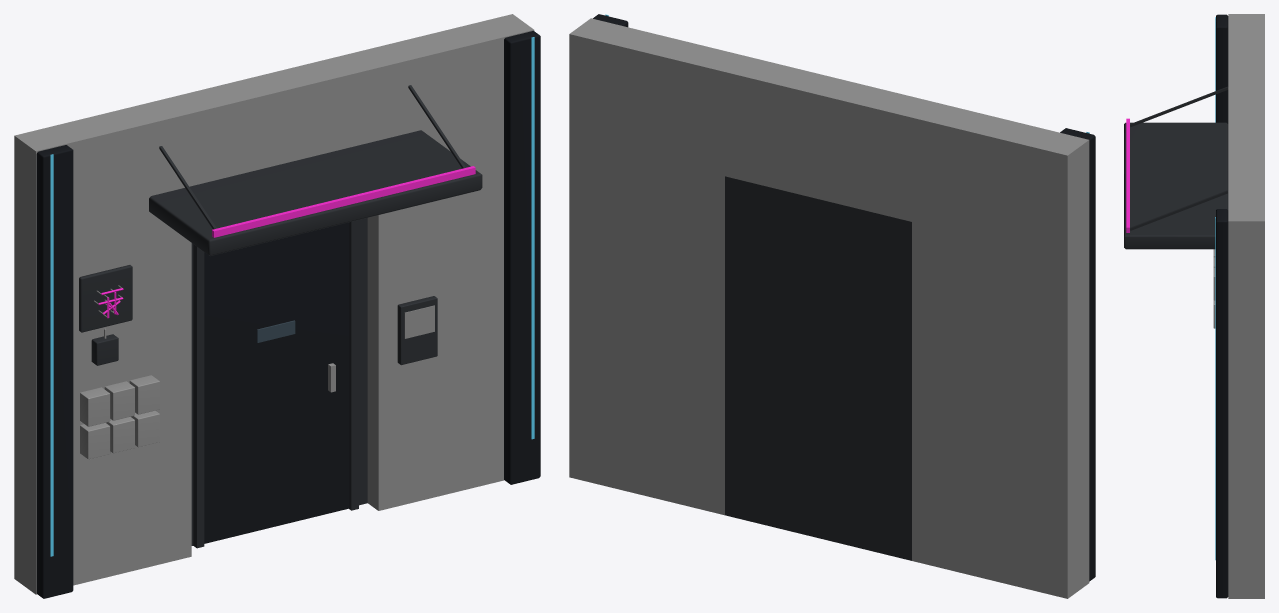
The model's file is Building_Facade_Panel_Entrance.fbx.
The picture shows the model from 3 angles, left to right: view 1: azimuth 30°, elevation 25°; view 2: azimuth 150°, elevation 25°; view 3: azimuth 270°, elevation 25°; orthographic projection. The views are drawn at different scales.
Visible parts, largest first — view 1: Building_Facade_Panel_Entrance_LOD0; view 2: Building_Facade_Panel_Entrance_LOD0; view 3: Building_Facade_Panel_Entrance_LOD0.
Boxes of the visible parts, x1,y1,x2,y2 form: Building_Facade_Panel_Entrance_LOD0: (14,14,540,598); Building_Facade_Panel_Entrance_LOD0: (569,14,1095,598); Building_Facade_Panel_Entrance_LOD0: (1124,14,1264,598).
Size of what is drawn, in the model's own units: 4 by 3.4 by 1.15.
